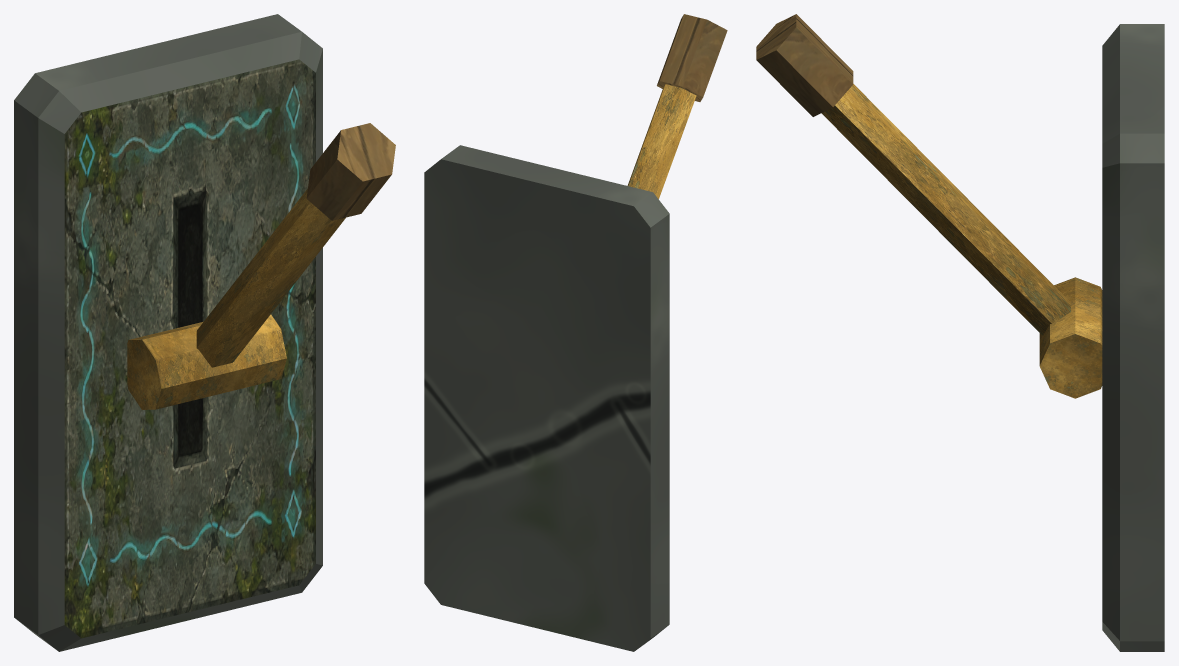
The model's file is Lever_Wall.fbx.
3 renders of one model, left to right at view 1: azimuth 30°, elevation 25°; view 2: azimuth 150°, elevation 25°; view 3: azimuth 270°, elevation 25°, orthographic. The views are drawn at different scales.
Parts seen in each view (by area): view 1: SM_Wall_Lever_Base_Combined, SM_Wall_Lever_Handle_Rotate_X; view 2: SM_Wall_Lever_Base_Combined, SM_Wall_Lever_Handle_Rotate_X; view 3: SM_Wall_Lever_Base_Combined, SM_Wall_Lever_Handle_Rotate_X.
Boxes of the visible parts, x1,y1,x2,y2 form: SM_Wall_Lever_Base_Combined: (14,14,322,651); SM_Wall_Lever_Handle_Rotate_X: (196,123,395,367); SM_Wall_Lever_Base_Combined: (424,145,669,651); SM_Wall_Lever_Handle_Rotate_X: (627,14,727,198); SM_Wall_Lever_Base_Combined: (1039,24,1164,651); SM_Wall_Lever_Handle_Rotate_X: (756,14,1070,335).
Size of the model in its own units: 29.92 by 62.64 by 40.22.
4 materials, 4 textured.
